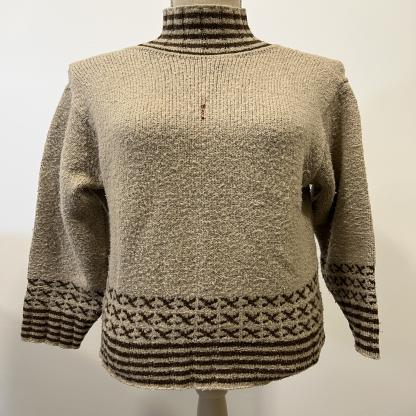stain: (199, 95, 211, 115), (199, 116, 207, 121)
